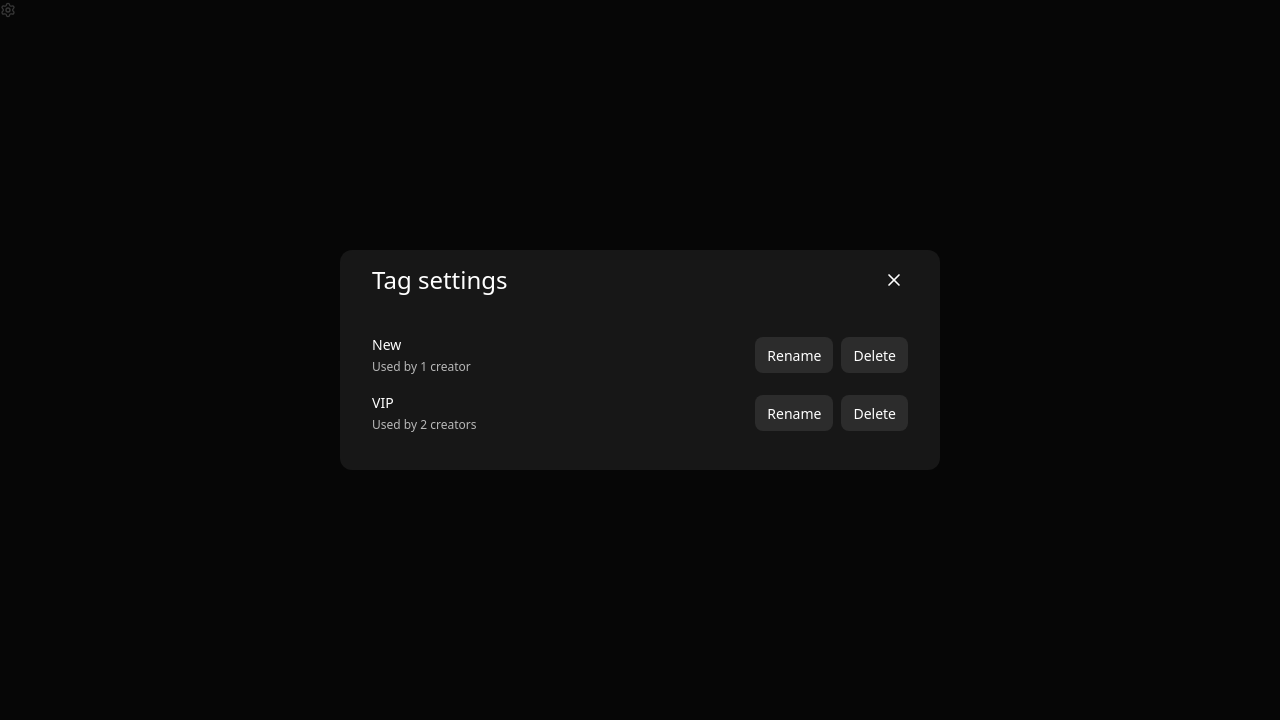
Test: TagSettings › renames a Tag on every profile that holds it, keeping the rest of the blob
Click the button named "Tag settings": {"x": 8, "y": 10} x1=0 y1=2 x2=16 y2=18
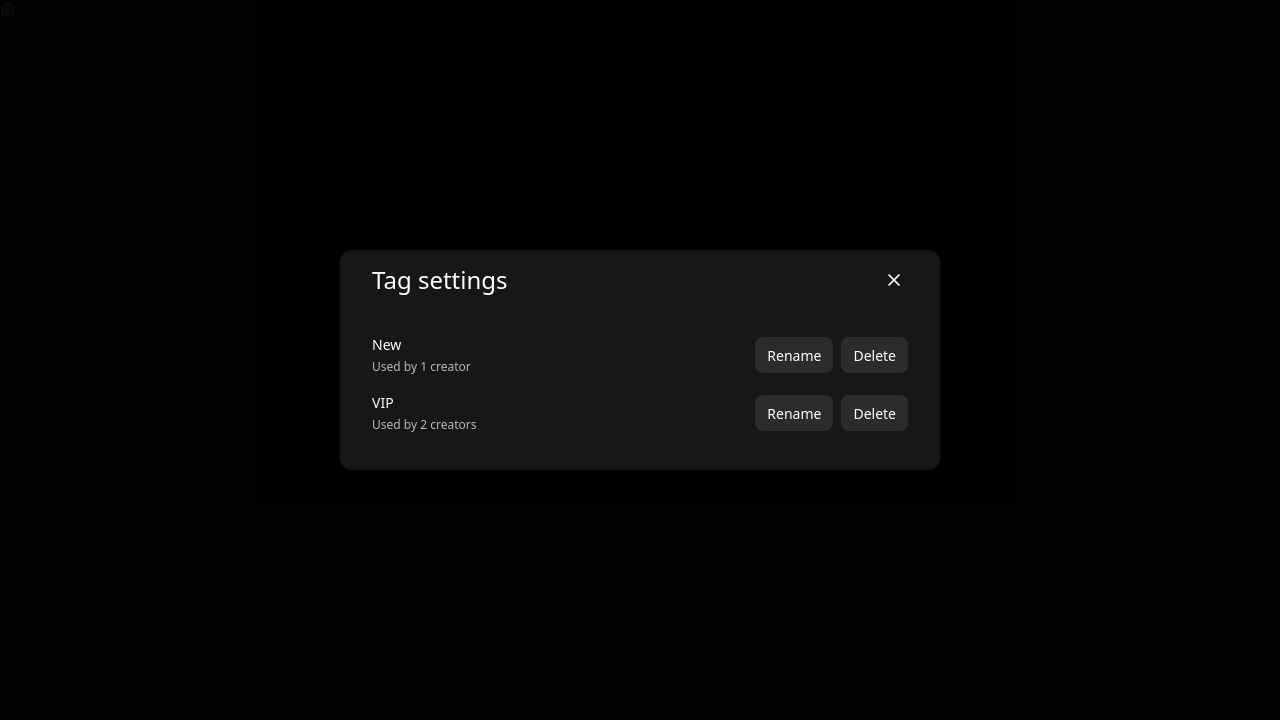
Click the 2nd button "Rename": {"x": 794, "y": 413} x1=755 y1=395 x2=833 y2=431
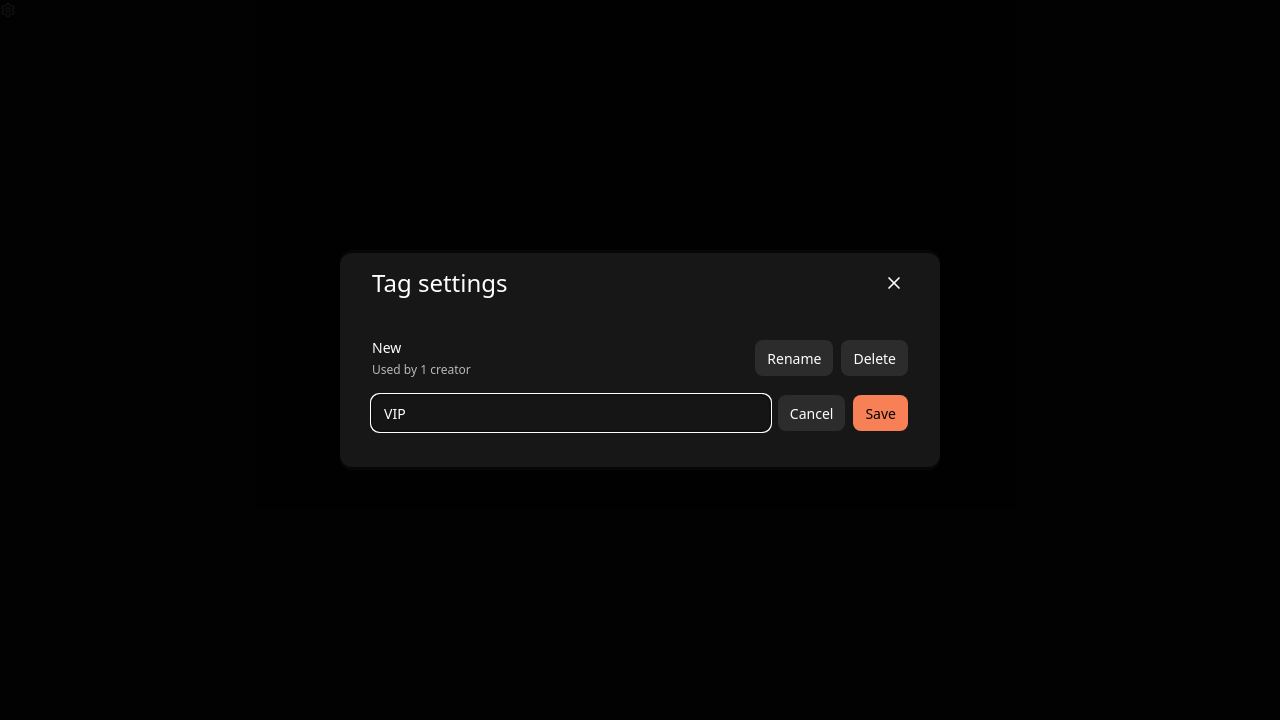
Replace the text in the field named "Rename VIP" with " Top ": {"x": 571, "y": 413} x1=372 y1=395 x2=770 y2=431
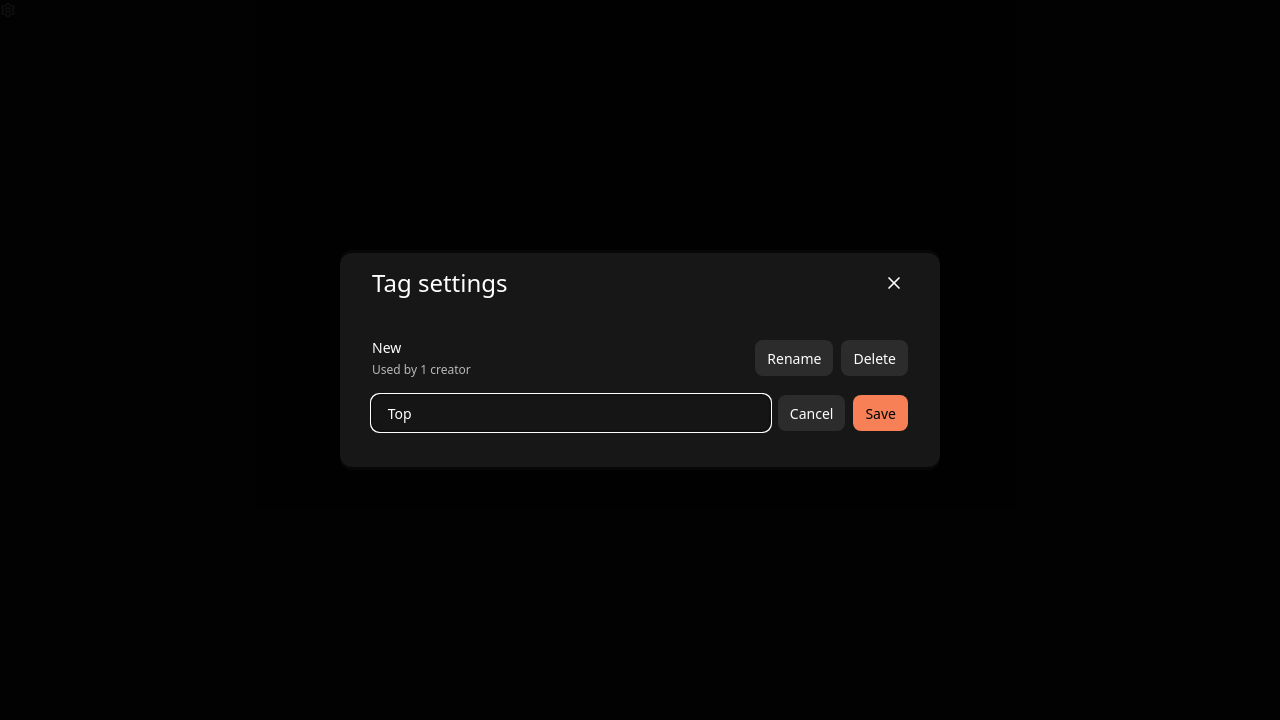
Click the button "Save": {"x": 881, "y": 413} x1=853 y1=395 x2=908 y2=431
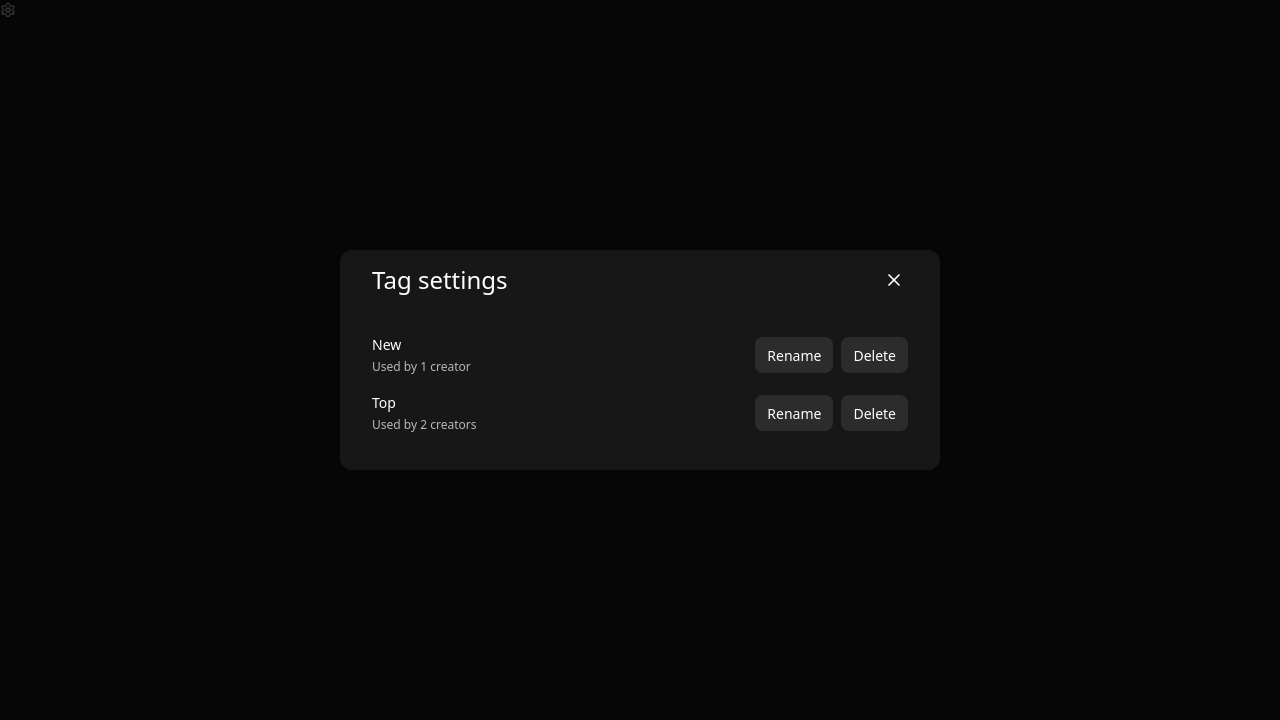
Expected: the text "Top" is shown, x1=372 y1=393 x2=396 y2=412
